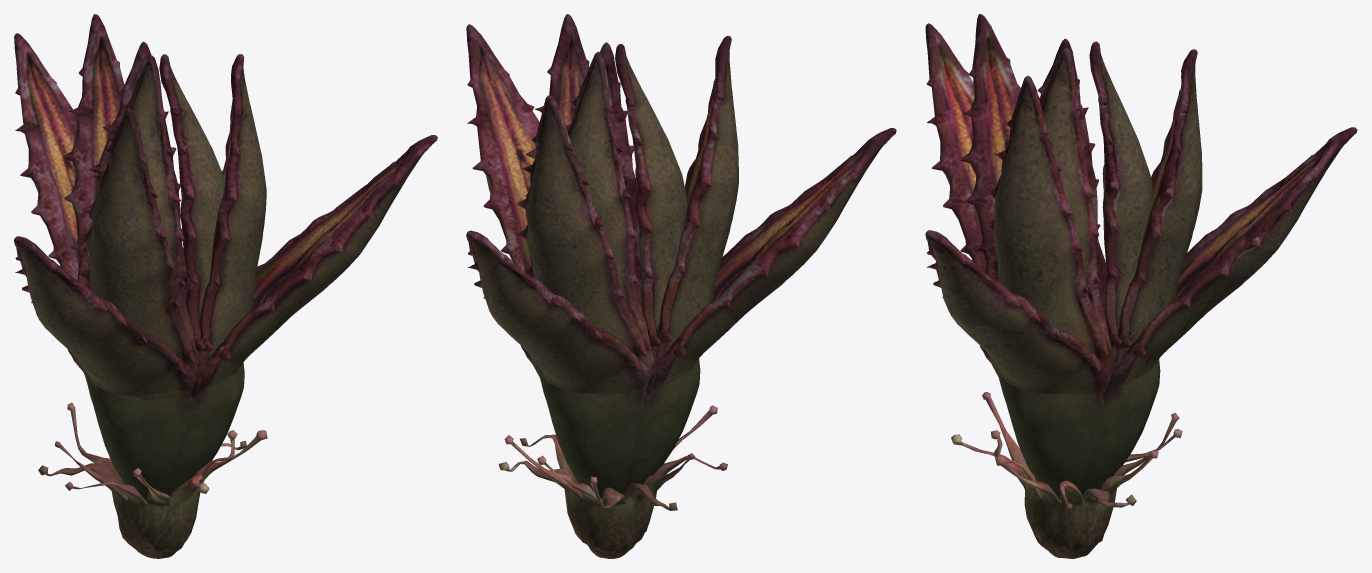
File: sm10_039_laboflower.fbx
The picture shows the model from 3 angles, left to right: view 1: azimuth 30°, elevation 25°; view 2: azimuth 150°, elevation 25°; view 3: azimuth 270°, elevation 25°; orthographic projection.
Parts seen in each view (by area): view 1: LOD_1_Group_2_Sub_1__sm10_039_LaboFlower_A_Mat, LOD_1_Group_0_Sub_1__sm10_039_LaboFlower_A_Mat, LOD_1_Group_1_Sub_1__sm10_039_LaboFlower_A_Mat; view 2: LOD_1_Group_0_Sub_1__sm10_039_LaboFlower_A_Mat, LOD_1_Group_2_Sub_1__sm10_039_LaboFlower_A_Mat, LOD_1_Group_1_Sub_1__sm10_039_LaboFlower_A_Mat; view 3: LOD_1_Group_0_Sub_1__sm10_039_LaboFlower_A_Mat, LOD_1_Group_1_Sub_1__sm10_039_LaboFlower_A_Mat, LOD_1_Group_2_Sub_1__sm10_039_LaboFlower_A_Mat.
Part boxes in pixels (bbox=[...]): LOD_1_Group_2_Sub_1__sm10_039_LaboFlower_A_Mat: bbox=[14, 33, 437, 494]; LOD_1_Group_0_Sub_1__sm10_039_LaboFlower_A_Mat: bbox=[38, 41, 267, 558]; LOD_1_Group_1_Sub_1__sm10_039_LaboFlower_A_Mat: bbox=[62, 14, 266, 484]; LOD_1_Group_0_Sub_1__sm10_039_LaboFlower_A_Mat: bbox=[498, 42, 727, 558]; LOD_1_Group_2_Sub_1__sm10_039_LaboFlower_A_Mat: bbox=[466, 24, 896, 475]; LOD_1_Group_1_Sub_1__sm10_039_LaboFlower_A_Mat: bbox=[517, 14, 738, 495]; LOD_1_Group_0_Sub_1__sm10_039_LaboFlower_A_Mat: bbox=[951, 38, 1182, 558]; LOD_1_Group_1_Sub_1__sm10_039_LaboFlower_A_Mat: bbox=[960, 14, 1202, 499]; LOD_1_Group_2_Sub_1__sm10_039_LaboFlower_A_Mat: bbox=[925, 23, 1357, 402].
Bounding box in the file's own units: 1.73 × 1.98 × 1.5.
